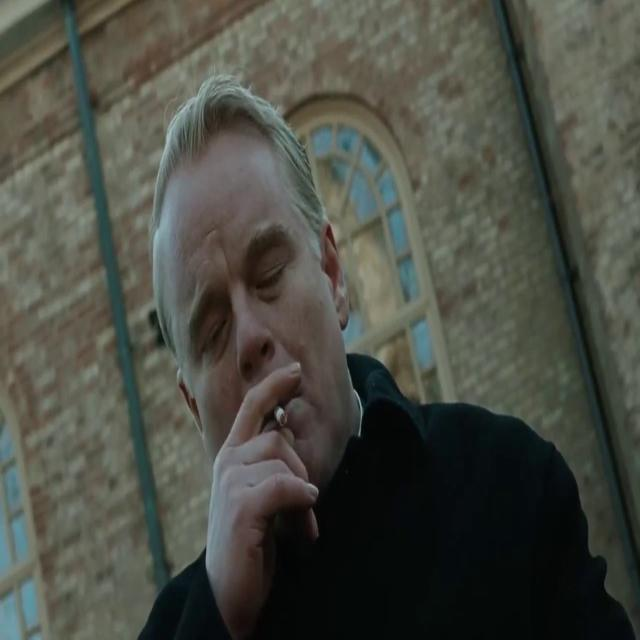Smooking: (270, 396, 295, 432)
